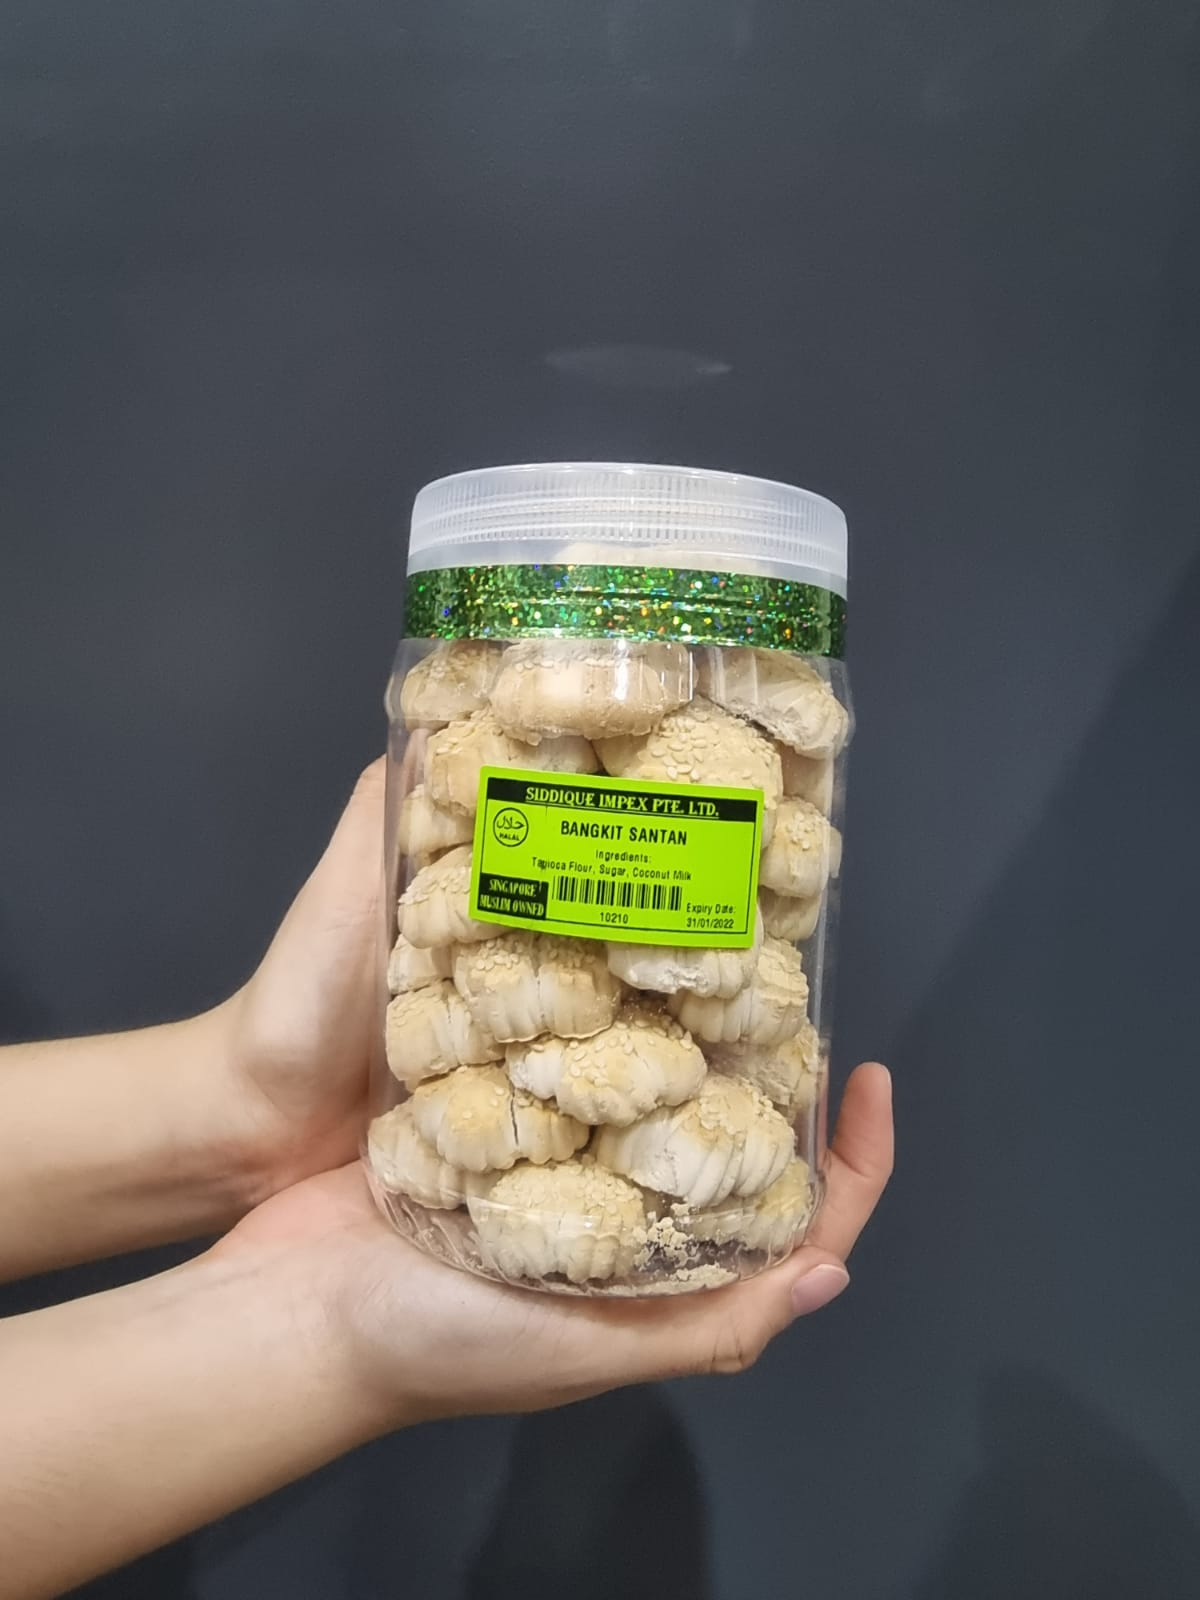Biscuits: (395, 470, 821, 1269)
